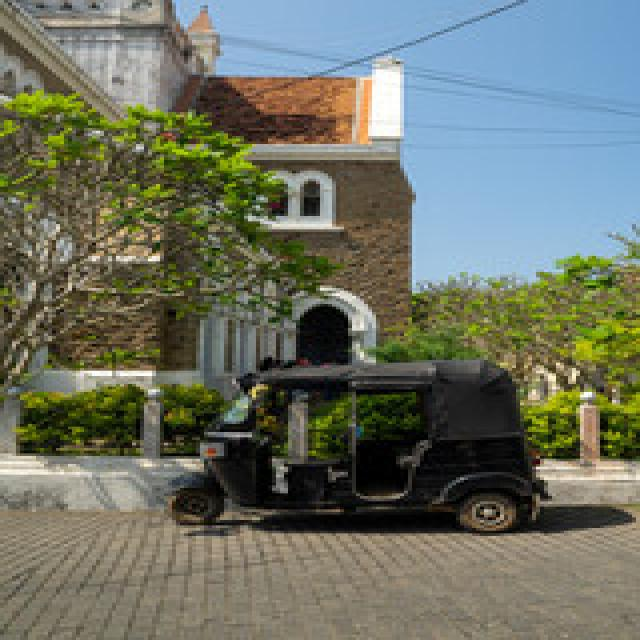three wheeler: (168, 360, 544, 531)
